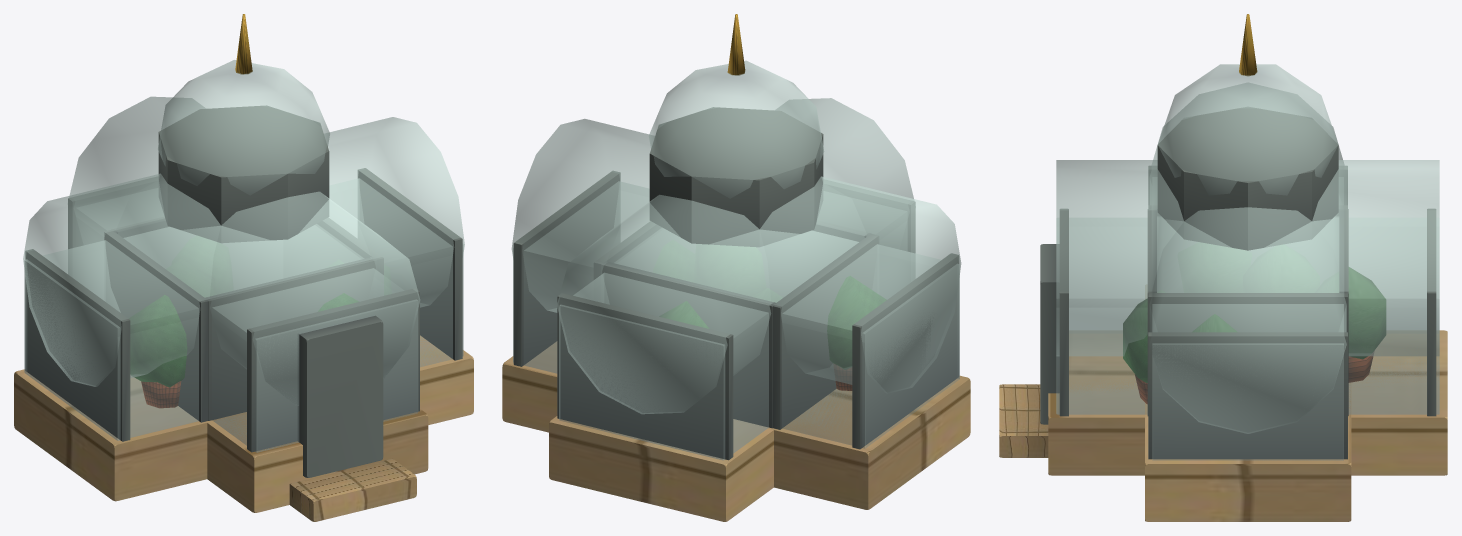
File: env_greenhouse.glb
3 renders of one model, left to right at view 1: azimuth 30°, elevation 25°; view 2: azimuth 150°, elevation 25°; view 3: azimuth 270°, elevation 25°, orthographic. The views are drawn at different scales.
Parts seen in each view (by area): view 1: GH_VaultX, GH_VaultY, GH_WallX, GH_CupolaDrum, GH_WallY, GH_BaseX, GH_CupolaDome, GH_RibX_-1.48, GH_DoorFrame, GH_RibY_-1.38, GH_RibY_-0.72, GH_RibX_1.48 (+9 smaller); view 2: GH_VaultX, GH_VaultY, GH_WallX, GH_WallY, GH_RibY_1.38, GH_CupolaDrum, GH_BaseX, GH_CupolaDome, GH_BaseY, GH_RibX_-1.48, GH_RibY_0.72, GH_RibX_1.48 (+7 smaller); view 3: GH_VaultY, GH_VaultX, GH_WallY, GH_WallX, GH_RibX_1.48, GH_BaseY, GH_CupolaDrum, GH_CupolaDome, GH_BaseX, GH_RibX_0.78, GH_Step, GH_DoorFrame (+8 smaller).
Part boxes in pixels (x1=…): GH_VaultX: x1=23, y1=117, x2=464, y2=386; GH_VaultY: x1=69, y1=96, x2=420, y2=405; GH_WallX: x1=24, y1=178, x2=463, y2=440; GH_CupolaDrum: x1=158, y1=105, x2=329, y2=242; GH_WallY: x1=212, y1=268, x2=418, y2=452; GH_BaseX: x1=14, y1=335, x2=473, y2=501; GH_CupolaDome: x1=158, y1=60, x2=329, y2=195; GH_RibX_-1.48: x1=25, y1=249, x2=130, y2=441; GH_DoorFrame: x1=297, y1=315, x2=383, y2=477; GH_RibY_-1.38: x1=247, y1=288, x2=419, y2=452; GH_RibY_-0.72: x1=205, y1=257, x2=376, y2=420; GH_RibX_1.48: x1=358, y1=168, x2=462, y2=360; GH_VaultX: x1=511, y1=119, x2=961, y2=393; GH_VaultY: x1=557, y1=98, x2=913, y2=414; GH_WallX: x1=513, y1=181, x2=959, y2=448; GH_WallY: x1=559, y1=273, x2=768, y2=460; GH_RibY_1.38: x1=557, y1=293, x2=733, y2=460; GH_CupolaDrum: x1=649, y1=107, x2=823, y2=246; GH_BaseX: x1=502, y1=341, x2=970, y2=509; GH_CupolaDome: x1=649, y1=60, x2=824, y2=198; GH_BaseY: x1=549, y1=416, x2=773, y2=521; GH_RibX_-1.48: x1=852, y1=253, x2=958, y2=449; GH_RibY_0.72: x1=601, y1=262, x2=776, y2=428; GH_RibX_1.48: x1=513, y1=171, x2=620, y2=366; GH_VaultY: x1=1056, y1=160, x2=1439, y2=355; GH_VaultX: x1=1149, y1=83, x2=1346, y2=433; GH_WallY: x1=1056, y1=218, x2=1439, y2=414; GH_WallX: x1=1152, y1=304, x2=1343, y2=460; GH_RibX_1.48: x1=1148, y1=332, x2=1347, y2=459; GH_BaseY: x1=1048, y1=330, x2=1447, y2=475; GH_CupolaDrum: x1=1157, y1=107, x2=1338, y2=250; GH_CupolaDome: x1=1158, y1=64, x2=1338, y2=195; GH_BaseX: x1=1145, y1=383, x2=1351, y2=521; GH_RibX_0.78: x1=1148, y1=293, x2=1347, y2=332; GH_Step: x1=999, y1=384, x2=1048, y2=457; GH_DoorFrame: x1=1040, y1=244, x2=1059, y2=424.
Bounding box in the file's own units: 3.2 × 3.46 × 3.37.
Materials: 5 (3 with a texture image).
